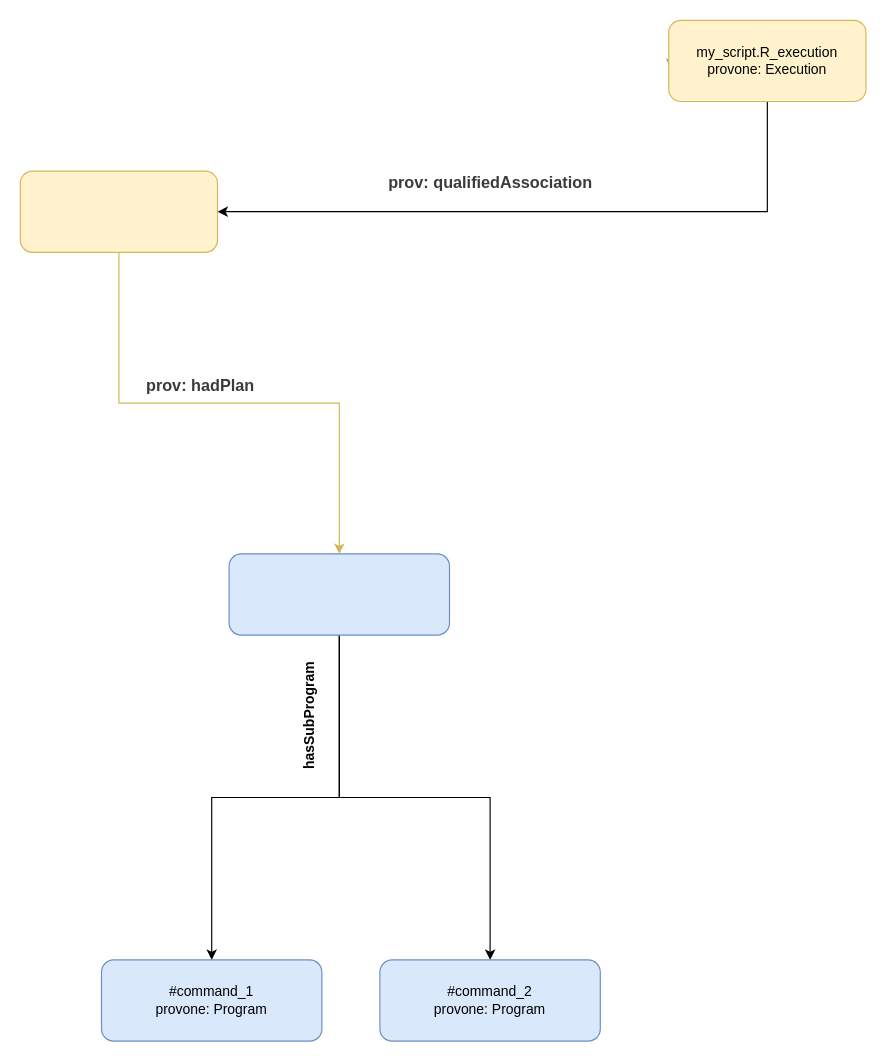
Image size: 886x1061. Some labels were removed from this diagram. Here are the shapes that lost their labels. From the top down, the centre of each, then its label:
At point 118,211: "associated_plan provone: Association".
At point 338,594: "my_script.R _program provone: Program".
